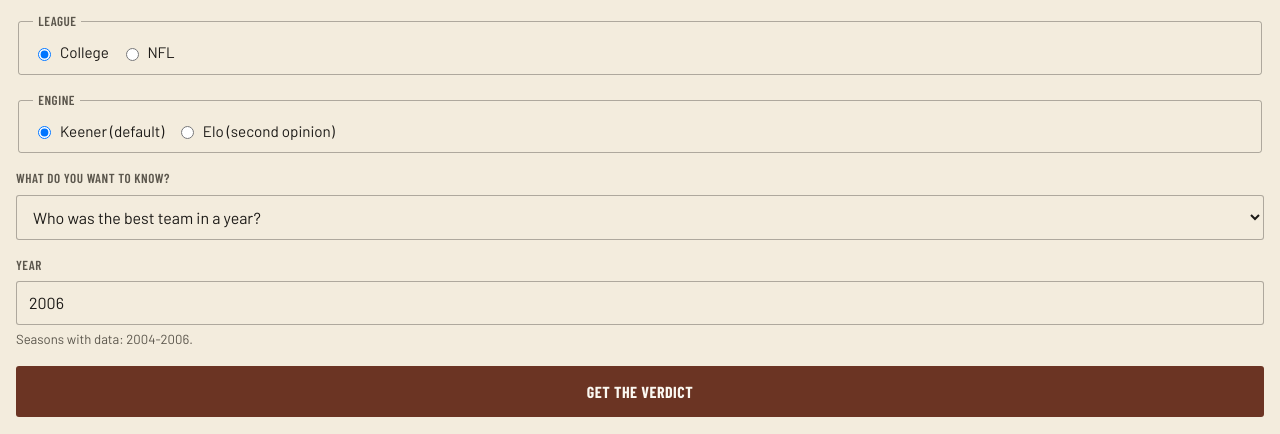
Test: QuestionForm › year default and validation (issue #136) › moves an untouched default to the new league's newest season on a league switch
The width and height of the screenshot is (1280, 434).
Check: the number field labelled "Year" holds "2006", box [16, 281, 1264, 325]
Step 1. Click the radio button labelled "NFL" → (132,54), box [126, 48, 139, 61]
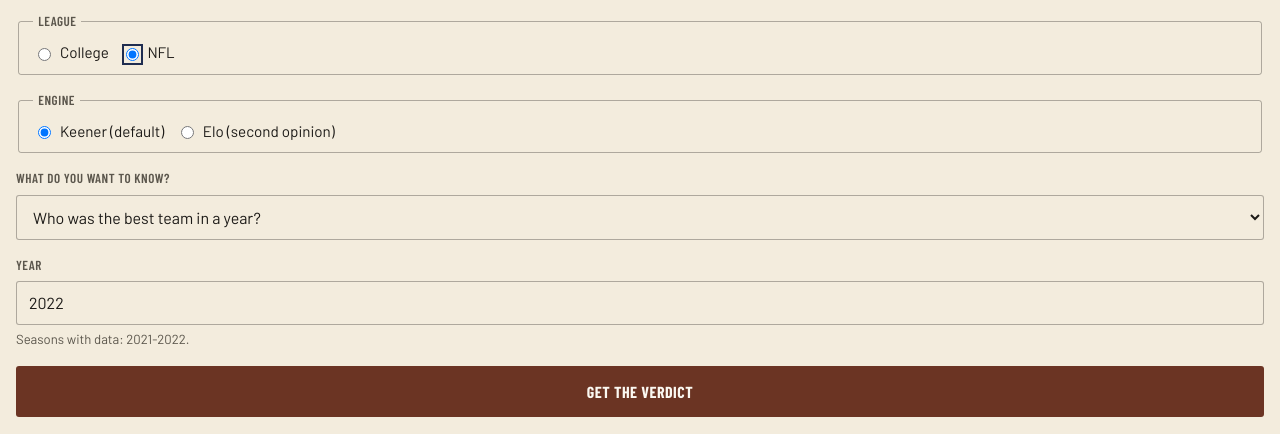
Check: the number field labelled "Year" holds "2022", box [16, 281, 1264, 325]
